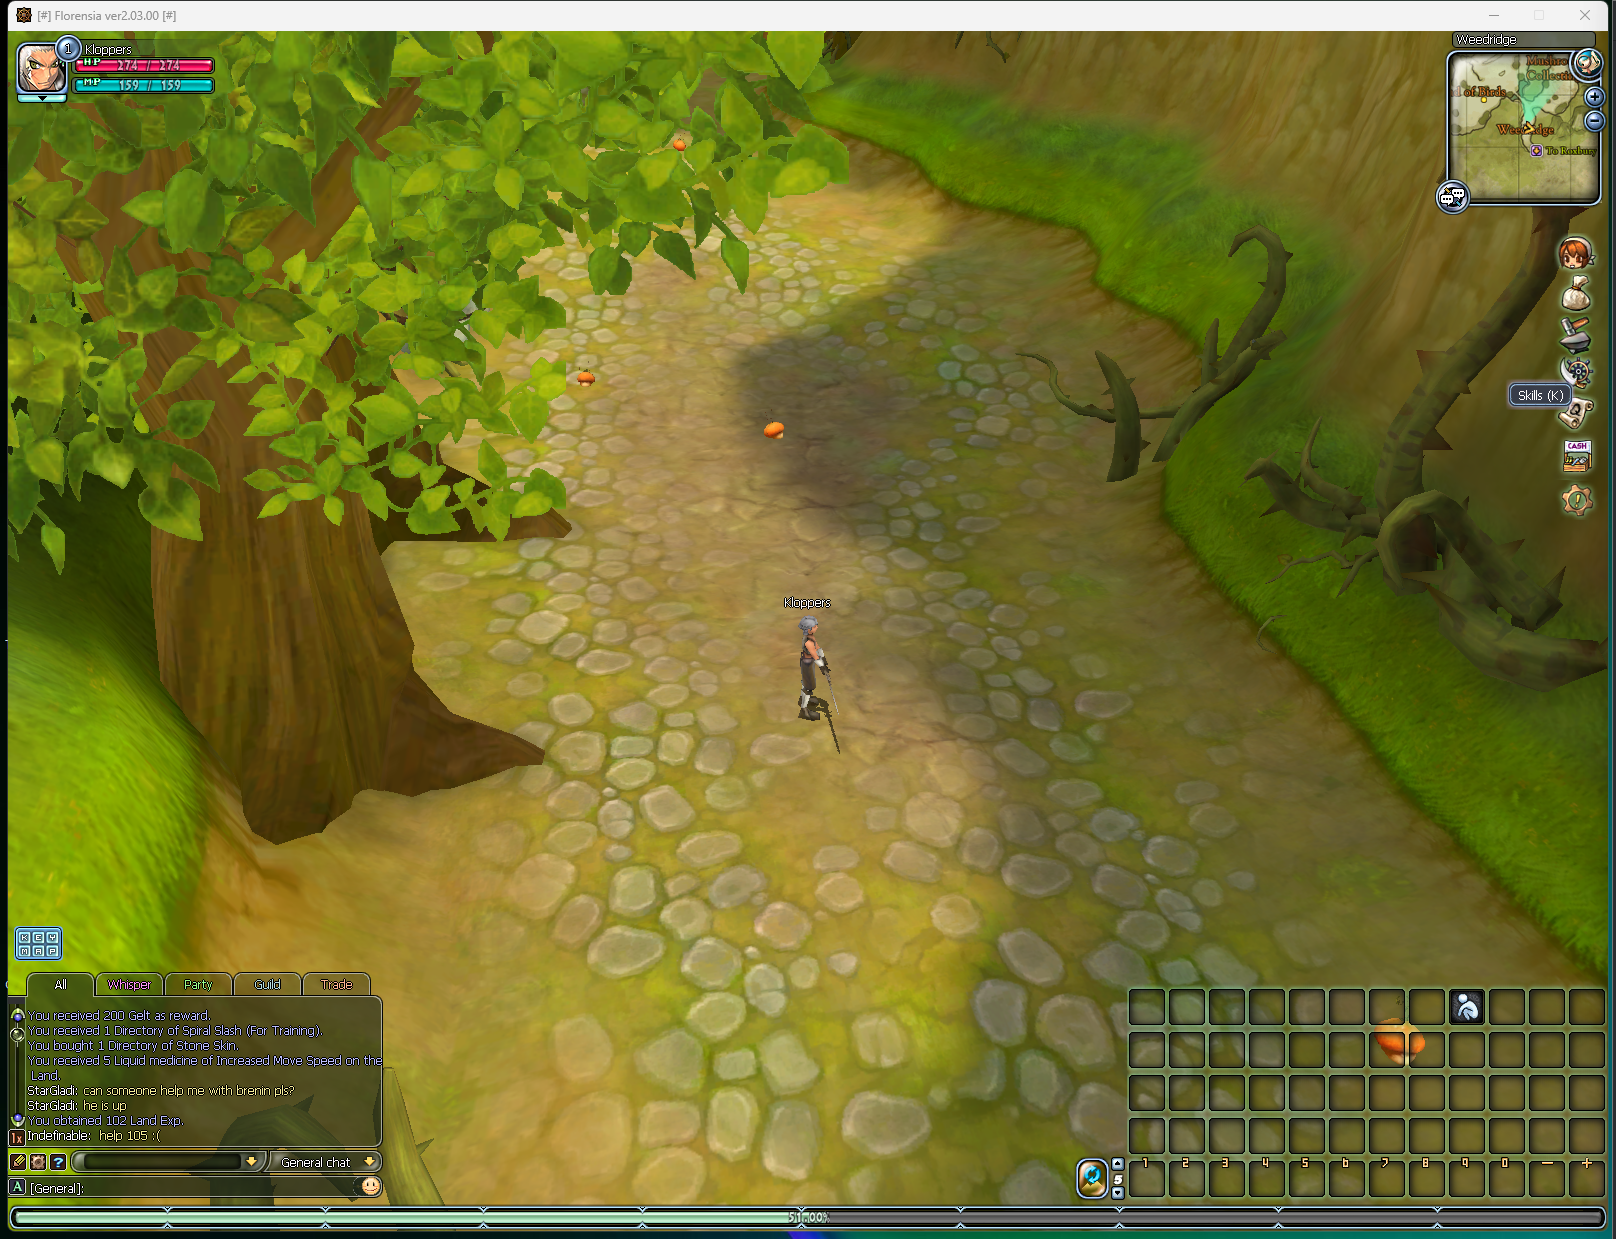player_exp_bar: (8, 1203, 1606, 1231)
player_hp_bar: (71, 56, 216, 75)
player_level: (54, 34, 82, 63)
player_mp_bar: (71, 77, 216, 95)
player_options: (16, 93, 68, 103)
player_skill_sit: (1448, 987, 1486, 1027)
player_skill_slot_+_empty: (1568, 1156, 1605, 1197)
player_skill_slot_-_empty: (1529, 1159, 1566, 1197)
player_skill_slot_0_empty: (1489, 1156, 1526, 1197)
player_skill_slot_1_empty: (1128, 1156, 1167, 1197)
player_skill_slot_2_empty: (1169, 1156, 1206, 1197)
player_skill_slot_3_empty: (1208, 1156, 1245, 1197)
player_skill_slot_4_empty: (1249, 1156, 1286, 1197)
player_skill_slot_5_empty: (1288, 1156, 1325, 1197)
player_skill_slot_6_empty: (1329, 1156, 1366, 1197)
player_skill_slot_7_empty: (1368, 1156, 1405, 1197)
player_skill_slot_8_empty: (1408, 1156, 1445, 1197)
player_skill_slot_9_empty: (1449, 1156, 1486, 1197)
player_skill_slot_no_hotkey_empty: (1208, 1116, 1246, 1156), (1368, 1116, 1406, 1156), (1528, 1116, 1566, 1156), (1528, 1073, 1566, 1113), (1368, 1073, 1406, 1113), (1208, 1073, 1246, 1113), (1208, 1030, 1246, 1070), (1368, 1030, 1406, 1070), (1528, 1030, 1566, 1070), (1528, 987, 1566, 1027), (1368, 987, 1406, 1027), (1208, 987, 1246, 1027), (1128, 1116, 1166, 1156), (1168, 1116, 1206, 1156), (1248, 1116, 1286, 1156), (1288, 1116, 1326, 1156), (1328, 1116, 1366, 1156), (1408, 1116, 1446, 1156), (1448, 1116, 1486, 1156), (1488, 1116, 1526, 1156), (1568, 1116, 1606, 1156), (1568, 1073, 1606, 1113), (1488, 1073, 1526, 1113), (1448, 1073, 1486, 1113), (1408, 1073, 1446, 1113), (1328, 1073, 1366, 1113), (1288, 1073, 1326, 1113), (1248, 1073, 1286, 1113), (1168, 1073, 1206, 1113), (1128, 1073, 1166, 1113), (1128, 1030, 1166, 1070), (1168, 1030, 1206, 1070), (1248, 1030, 1286, 1070), (1288, 1030, 1326, 1070), (1328, 1030, 1366, 1070), (1408, 1030, 1446, 1070), (1448, 1030, 1486, 1070), (1488, 1030, 1526, 1070), (1568, 1030, 1606, 1070), (1568, 987, 1606, 1027), (1488, 987, 1526, 1027), (1408, 987, 1446, 1027), (1328, 987, 1366, 1027), (1288, 987, 1326, 1027), (1248, 987, 1286, 1027), (1168, 987, 1206, 1027), (1128, 987, 1166, 1027)
